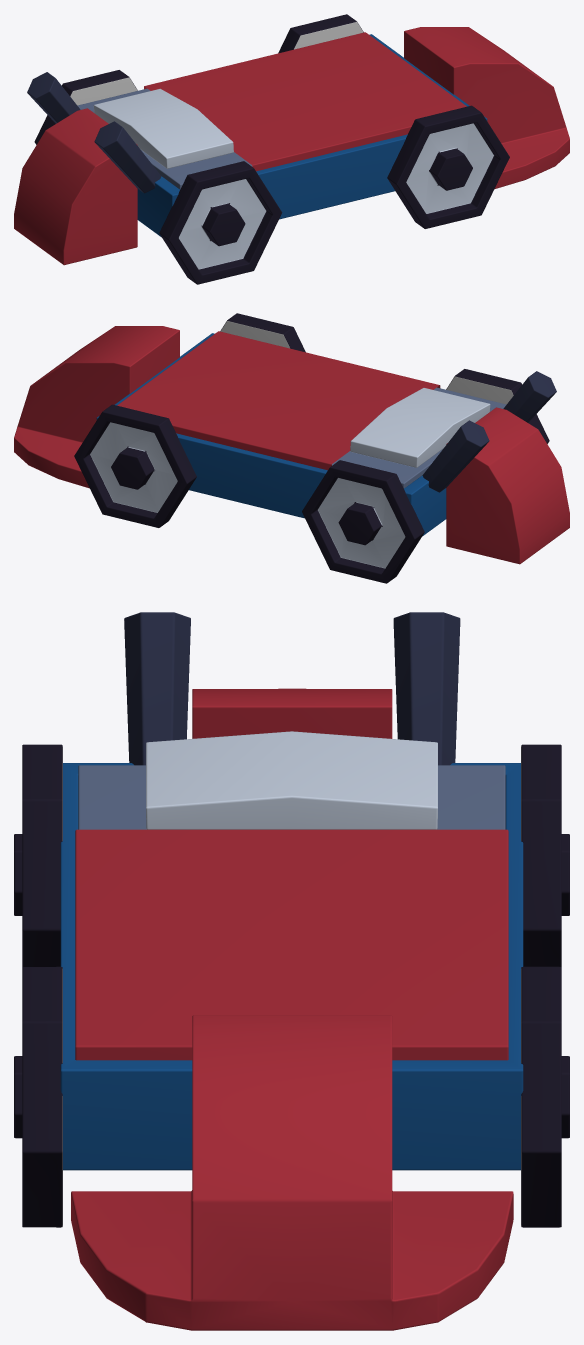
The model's file is bed.glb.
The picture shows the model from 3 angles, top to bottom: view 1: azimuth 30°, elevation 25°; view 2: azimuth 150°, elevation 25°; view 3: azimuth 270°, elevation 25°; orthographic projection. The views are drawn at different scales.
Parts seen in each view (by area): view 1: Bed; view 2: Bed; view 3: Bed.
Boxes of the visible parts, x1,y1,x2,y2 form: Bed: [14, 14, 569, 284]; Bed: [14, 313, 569, 583]; Bed: [14, 612, 569, 1330].
Size of the model in its own units: 2.44 by 0.6817 by 1.17.
1 material, 1 textured.
